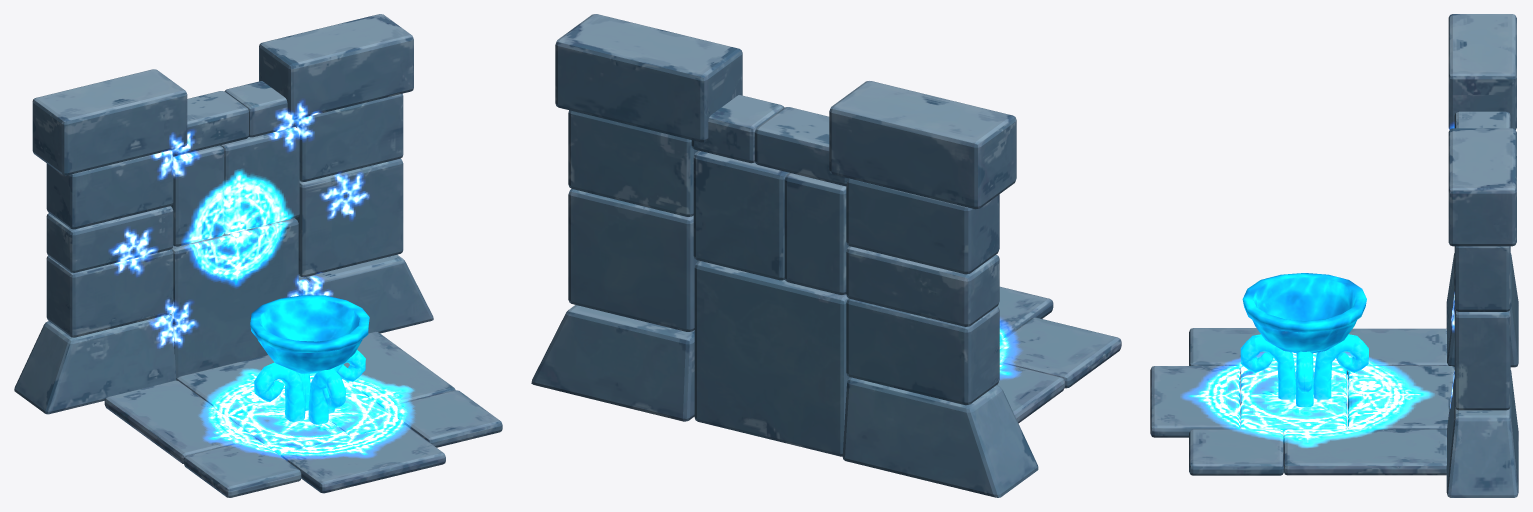
The model's file is CamaraRefrigeracao.fbx.
3 views of the same model, side by side, from view 1: azimuth 30°, elevation 25°; view 2: azimuth 150°, elevation 25°; view 3: azimuth 270°, elevation 25° (orthographic). The views are drawn at different scales.
Parts seen in each view (by area): view 1: ParedePedraGelo, CamaraRefrigeração, SuporteCamaraRefrigeração.001, SuporteCamaraRefrigeração.003, SuporteCamaraRefrigeração.002; view 2: ParedePedraGelo; view 3: ParedePedraGelo, CamaraRefrigeração, SuporteCamaraRefrigeração, SuporteCamaraRefrigeração.003, SuporteCamaraRefrigeração.002.
Boxes of the visible parts, box(x1,y1,x2,y2) form: ParedePedraGelo: box(14, 14, 502, 497); CamaraRefrigeração: box(250, 295, 369, 373); SuporteCamaraRefrigeração.001: box(254, 362, 305, 421); SuporteCamaraRefrigeração.003: box(308, 368, 345, 424); SuporteCamaraRefrigeração.002: box(328, 350, 365, 413); ParedePedraGelo: box(531, 14, 1121, 497); ParedePedraGelo: box(1150, 14, 1518, 497); CamaraRefrigeração: box(1242, 273, 1366, 353); SuporteCamaraRefrigeração: box(1313, 334, 1368, 399); SuporteCamaraRefrigeração.003: box(1240, 334, 1295, 399); SuporteCamaraRefrigeração.002: box(1296, 351, 1313, 406).
Size of the model in its own units: 10.58 by 7.72 by 8.41.
